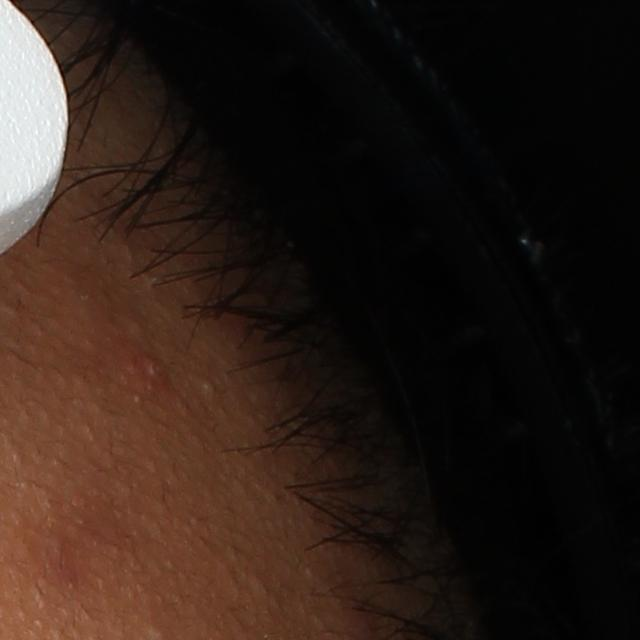papule: (136, 350, 173, 390)
